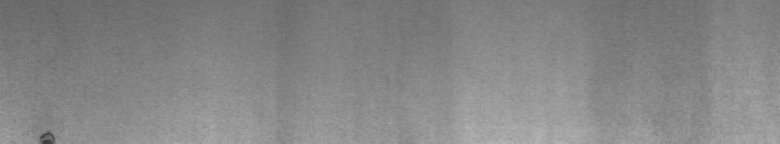fi: (37, 124, 56, 136)
